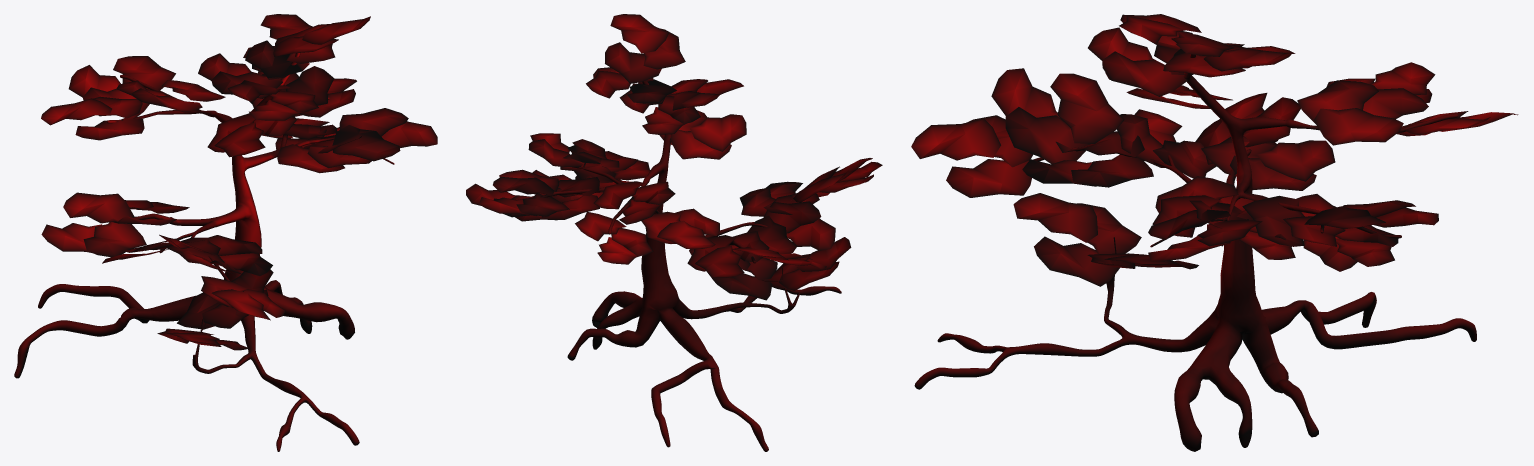
File: castle_graveyard_tree_no_specular.glb
The picture shows the model from 3 angles, left to right: view 1: azimuth 30°, elevation 25°; view 2: azimuth 150°, elevation 25°; view 3: azimuth 270°, elevation 25°; orthographic projection. The views are drawn at different scales.
Parts seen in each view (by area): view 1: Flat_Leaves, Tree; view 2: Flat_Leaves, Tree; view 3: Flat_Leaves, Tree.
Part boxes in pixels (x1,y1,x2,y2): Flat_Leaves: (41,14,437,350); Tree: (14,53,394,451); Flat_Leaves: (466,14,882,300); Tree: (540,80,841,451); Flat_Leaves: (911,14,1518,286); Tree: (914,54,1476,451).
Size of the model in its own units: 17.97 by 17.39 by 21.34.
